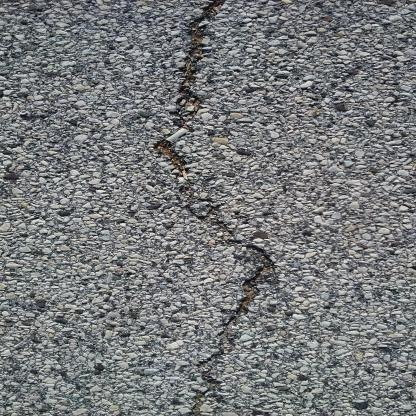Cracks: (151, 1, 286, 416)
